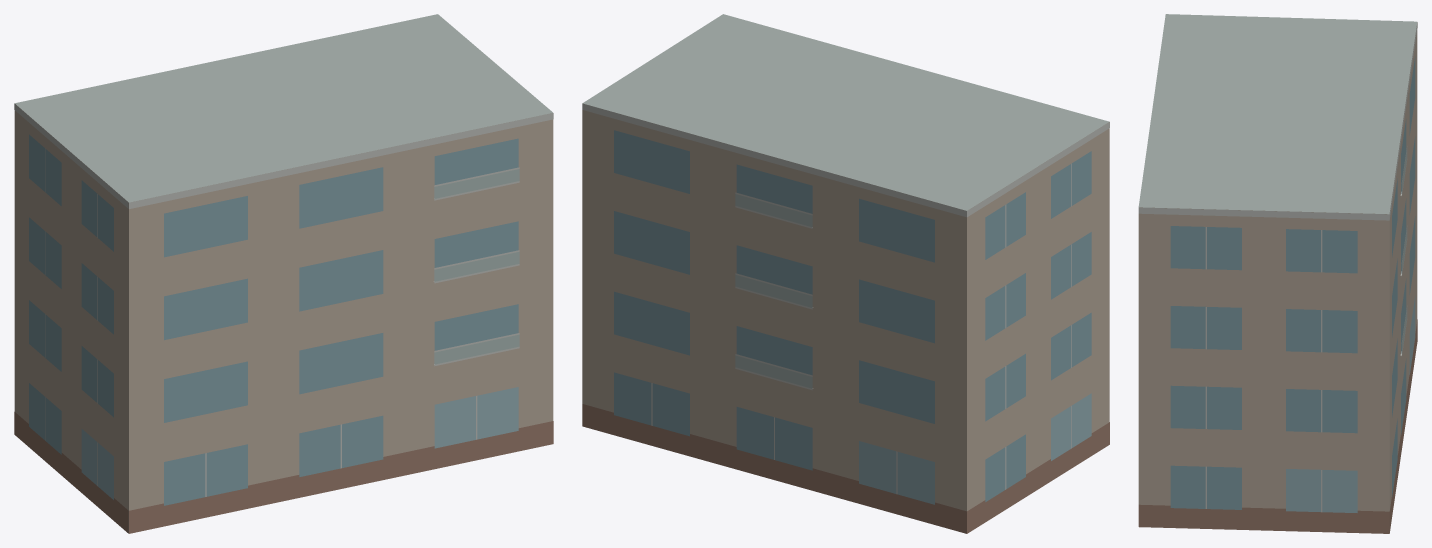
The model's file is survey-upis-32528357.glb.
3 views of the same model, side by side, from view 1: azimuth 30°, elevation 25°; view 2: azimuth 150°, elevation 25°; view 3: azimuth 270°, elevation 25° (orthographic). The views are drawn at different scales.
Parts seen in each view (by area): view 1: survey-upis-32528357.tmp; view 2: survey-upis-32528357.tmp; view 3: survey-upis-32528357.tmp.
Boxes of the visible parts, left/top/right/bottom form: survey-upis-32528357.tmp: left=14, top=14, right=553, bottom=533; survey-upis-32528357.tmp: left=582, top=14, right=1109, bottom=533; survey-upis-32528357.tmp: left=1138, top=14, right=1417, bottom=533.
Size of the model in its own units: 16.39 by 12.2 by 9.65.
